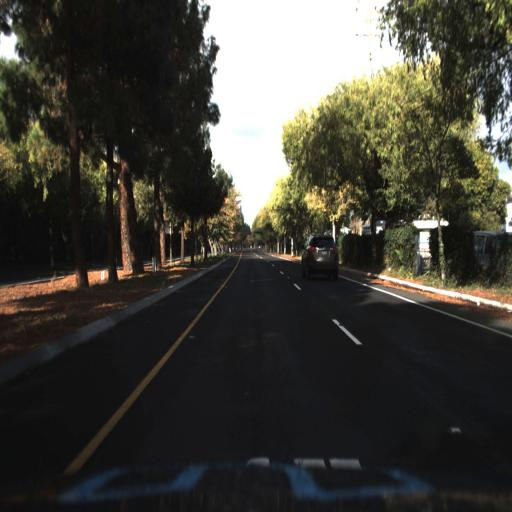car: (298, 229, 344, 280)
